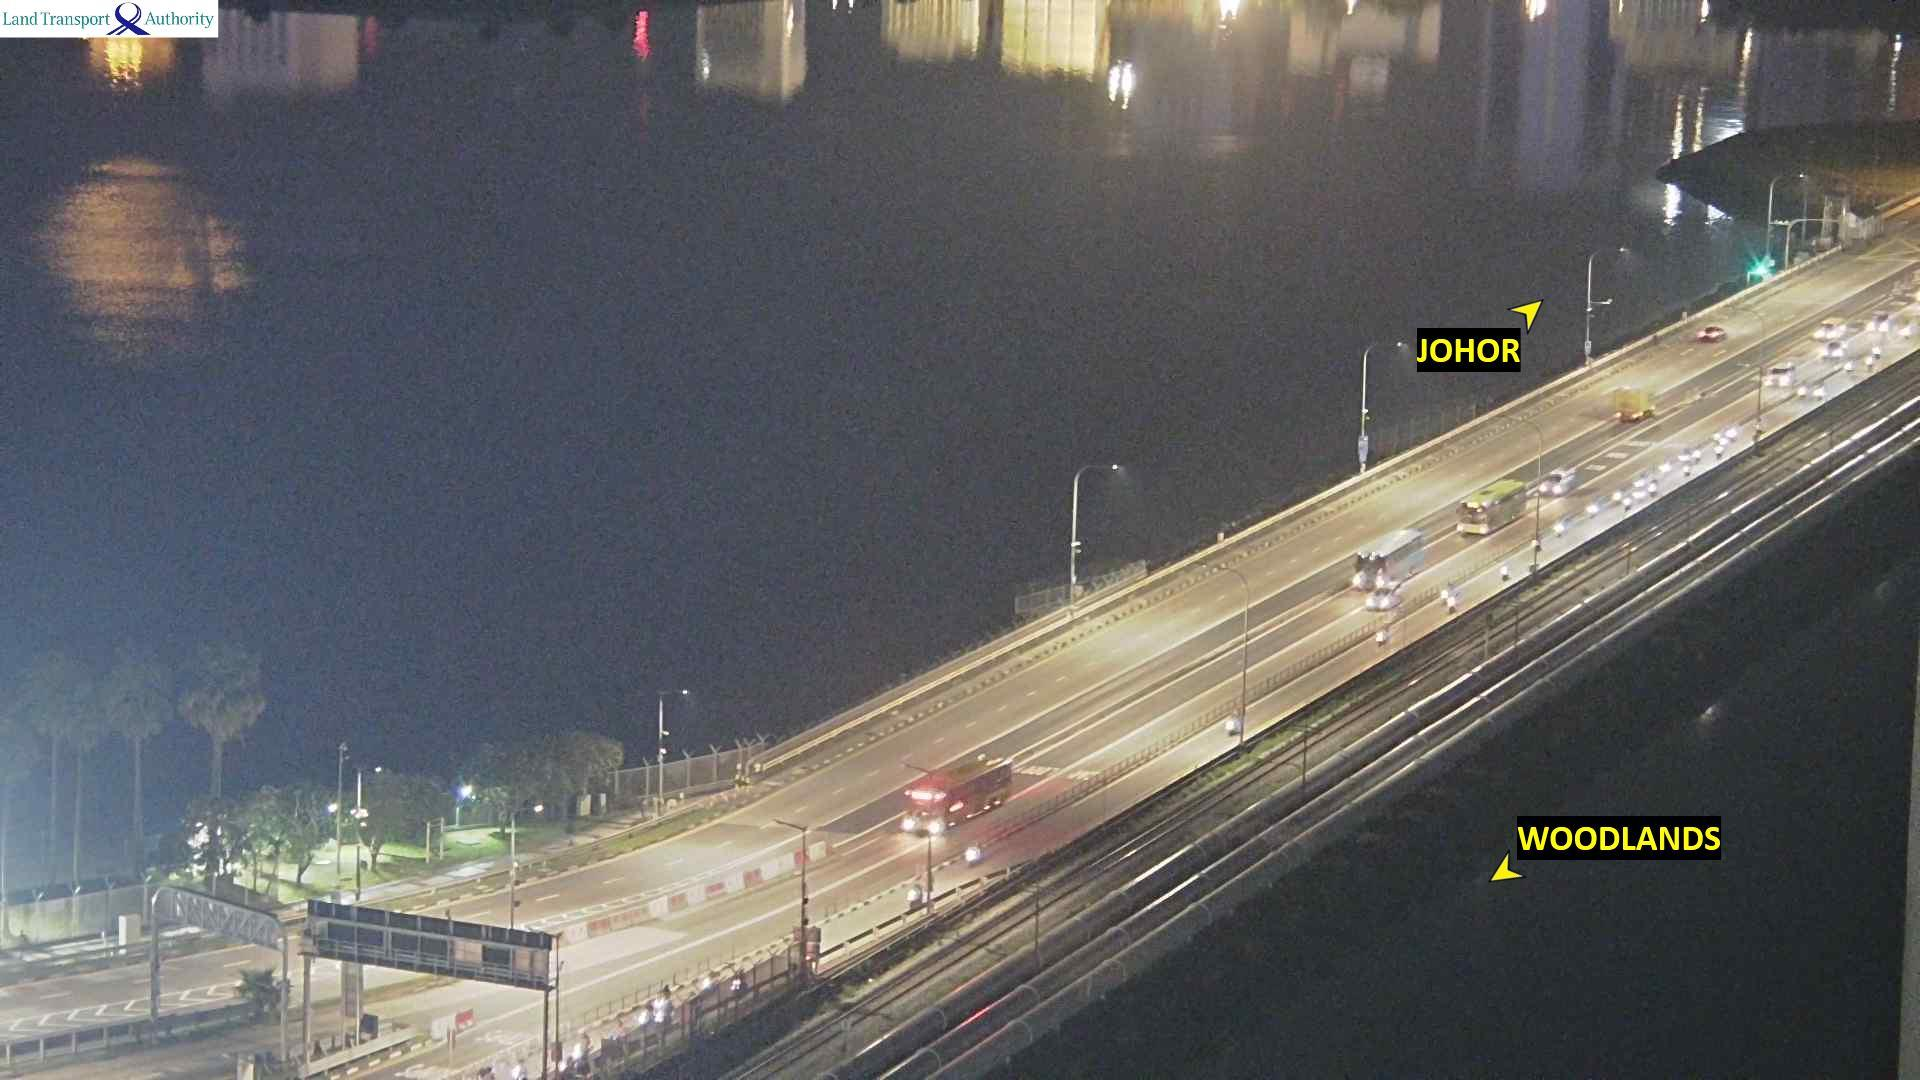vehicle-causeway-johor: (1614, 389, 1654, 421), (1700, 326, 1726, 339)
vehicle-causeway-singapore: (905, 760, 1010, 833), (1352, 530, 1429, 584), (1458, 481, 1527, 531), (1543, 467, 1575, 497), (1763, 364, 1795, 389), (1812, 319, 1845, 340), (1369, 587, 1403, 607), (651, 989, 670, 1023), (1863, 313, 1890, 336), (572, 1034, 593, 1058), (1822, 342, 1845, 359), (964, 843, 981, 861), (907, 882, 922, 903), (1226, 707, 1238, 732), (1448, 592, 1458, 615), (1377, 628, 1387, 647), (638, 1000, 647, 1022), (1441, 580, 1453, 597), (1796, 381, 1808, 398), (1815, 382, 1826, 398), (612, 1018, 621, 1036), (1613, 488, 1623, 502), (1650, 480, 1659, 496), (1555, 520, 1563, 537), (1501, 563, 1507, 582), (1589, 502, 1598, 516), (1727, 427, 1737, 439), (1662, 462, 1669, 473), (1680, 452, 1689, 462), (1713, 448, 1722, 458), (1693, 448, 1701, 459)
